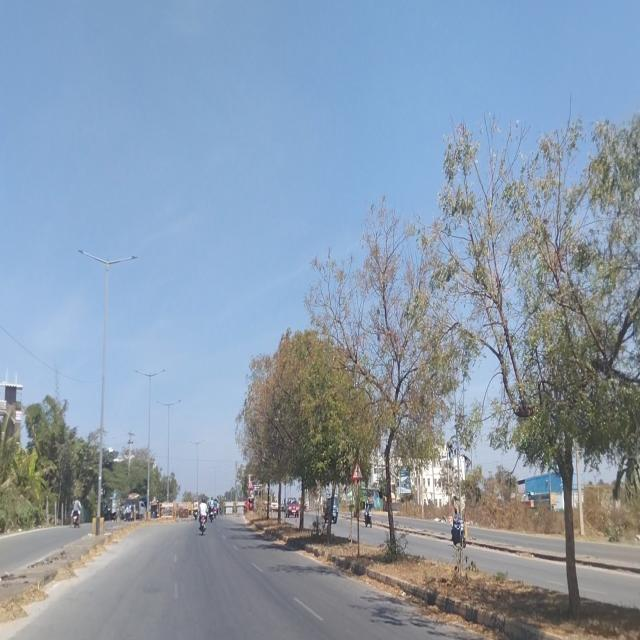bien_cam: (352, 460, 364, 480)
